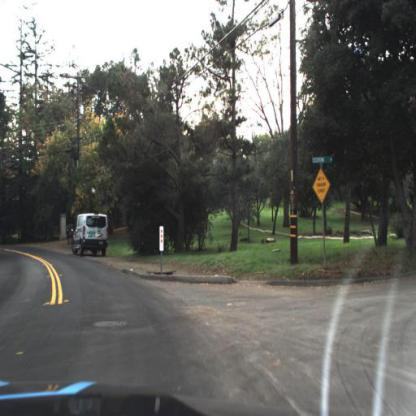car: (72, 211, 114, 257)
